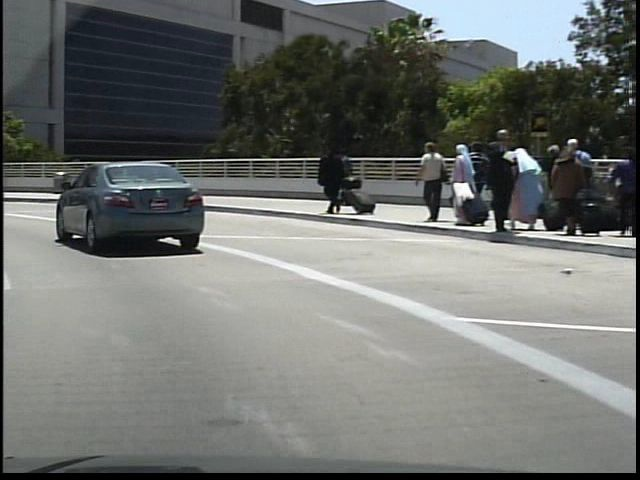person: (479, 124, 519, 236), (410, 140, 447, 223), (311, 141, 346, 216), (334, 150, 355, 208)
